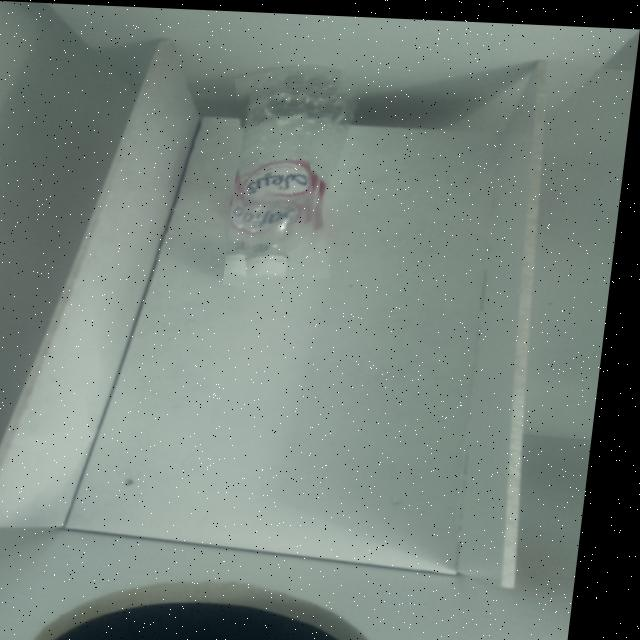litter: (229, 63, 343, 286)
